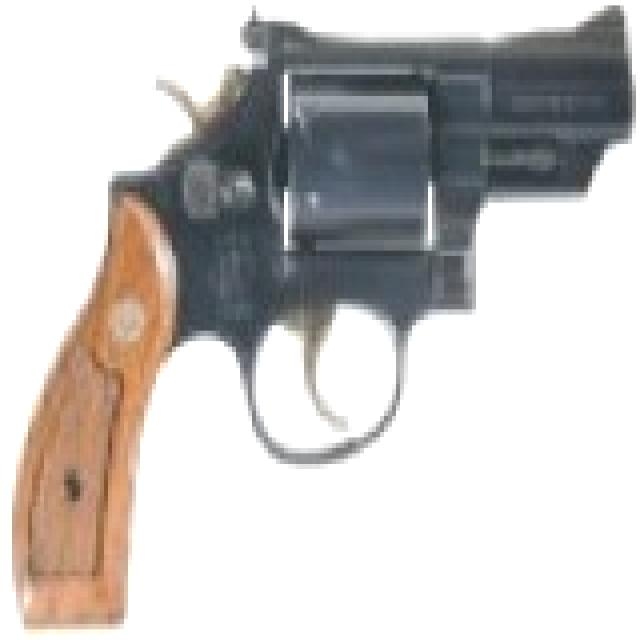pistol: (20, 0, 628, 629)
